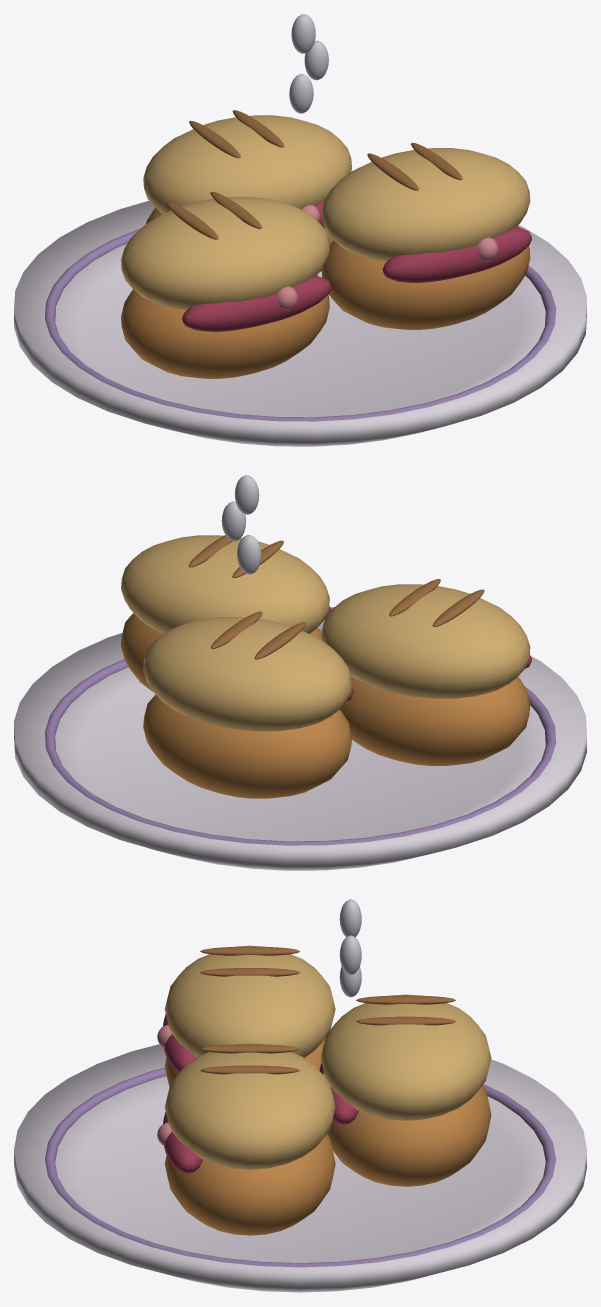
The model's file is trailbuns.glb.
The picture shows the model from 3 angles, top to bottom: view 1: azimuth 30°, elevation 25°; view 2: azimuth 150°, elevation 25°; view 3: azimuth 270°, elevation 25°; orthographic projection.
Parts seen in each view (by area): view 1: _fluff-bread_sphere, _plate_plate, _berry-filling_sphere, _steam_steam; view 2: _fluff-bread_sphere, _plate_plate, _steam_steam; view 3: _fluff-bread_sphere, _plate_plate, _berry-filling_sphere, _steam_steam.
Boxes of the visible parts, bbox=[...] form: _fluff-bread_sphere: bbox=[121, 110, 530, 378]; _plate_plate: bbox=[14, 201, 586, 446]; _berry-filling_sphere: bbox=[182, 202, 531, 331]; _steam_steam: bbox=[289, 14, 328, 113]; _fluff-bread_sphere: bbox=[121, 535, 530, 798]; _plate_plate: bbox=[14, 607, 586, 870]; _steam_steam: bbox=[221, 475, 261, 574]; _fluff-bread_sphere: bbox=[164, 945, 491, 1235]; _plate_plate: bbox=[14, 1044, 586, 1292]; _berry-filling_sphere: bbox=[157, 1014, 358, 1173]; _steam_steam: bbox=[339, 899, 361, 997].
Bounding box in the file's own units: 1.14 × 0.677 × 1.14.
